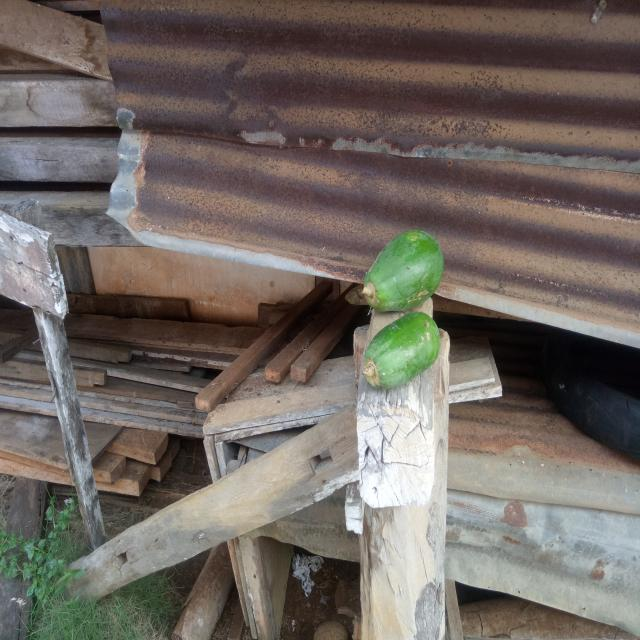Pepaya unrippen: (343, 223, 452, 306), (355, 308, 442, 393)
